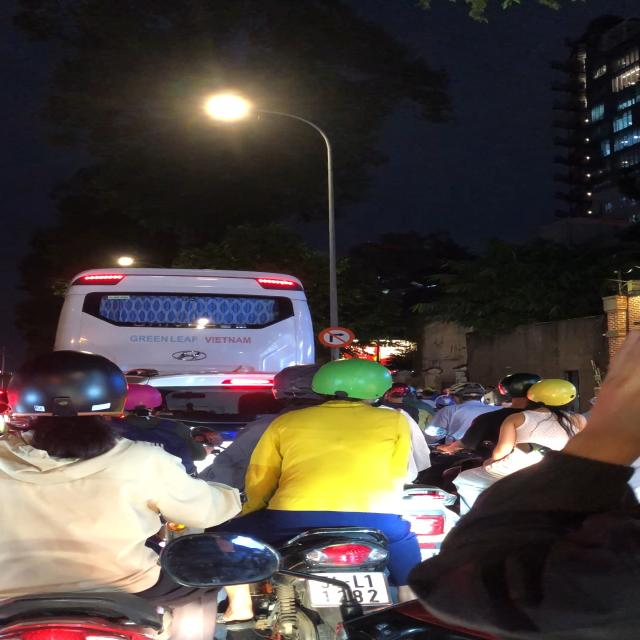Bien bao cam re phai: (317, 325, 356, 346)
